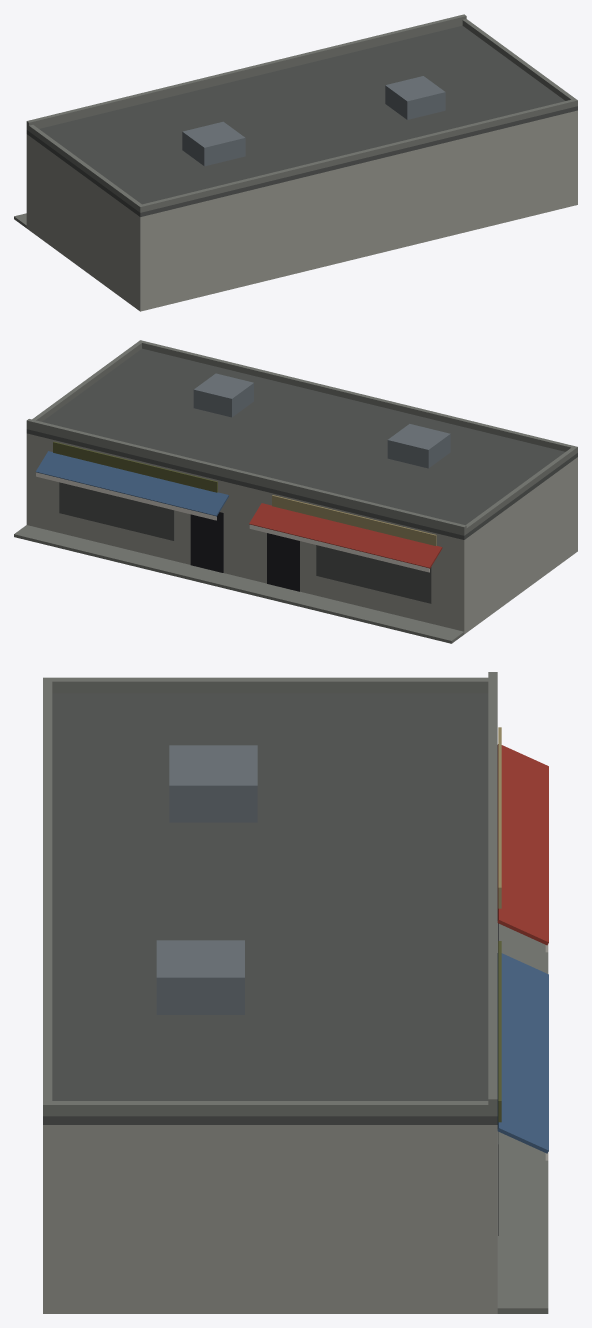
The model's file is shop_lod1.glb.
3 views of the same model, one above another, from view 1: azimuth 30°, elevation 25°; view 2: azimuth 150°, elevation 25°; view 3: azimuth 270°, elevation 25° (orthographic). The views are drawn at different scales.
Parts seen in each view (by area): view 1: shop_lod1; view 2: shop_lod1; view 3: shop_lod1.
Part boxes in pixels (left/top/right/bottom): shop_lod1: left=14, top=14, right=577, bottom=311; shop_lod1: left=14, top=340, right=577, bottom=643; shop_lod1: left=43, top=672, right=548, bottom=1313.
Size of what is drawn, in the model's own units: 16 by 4.1 by 8.01.
2 materials, 2 textured.
